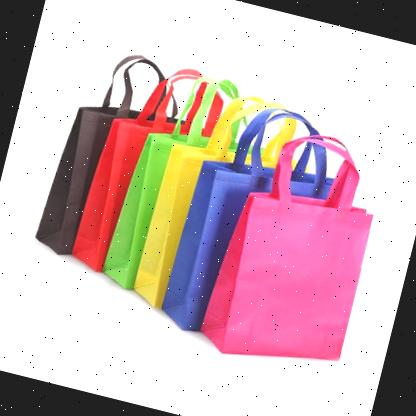bag: (195, 114, 399, 389), (30, 38, 171, 274), (69, 41, 200, 286), (102, 54, 223, 303)
